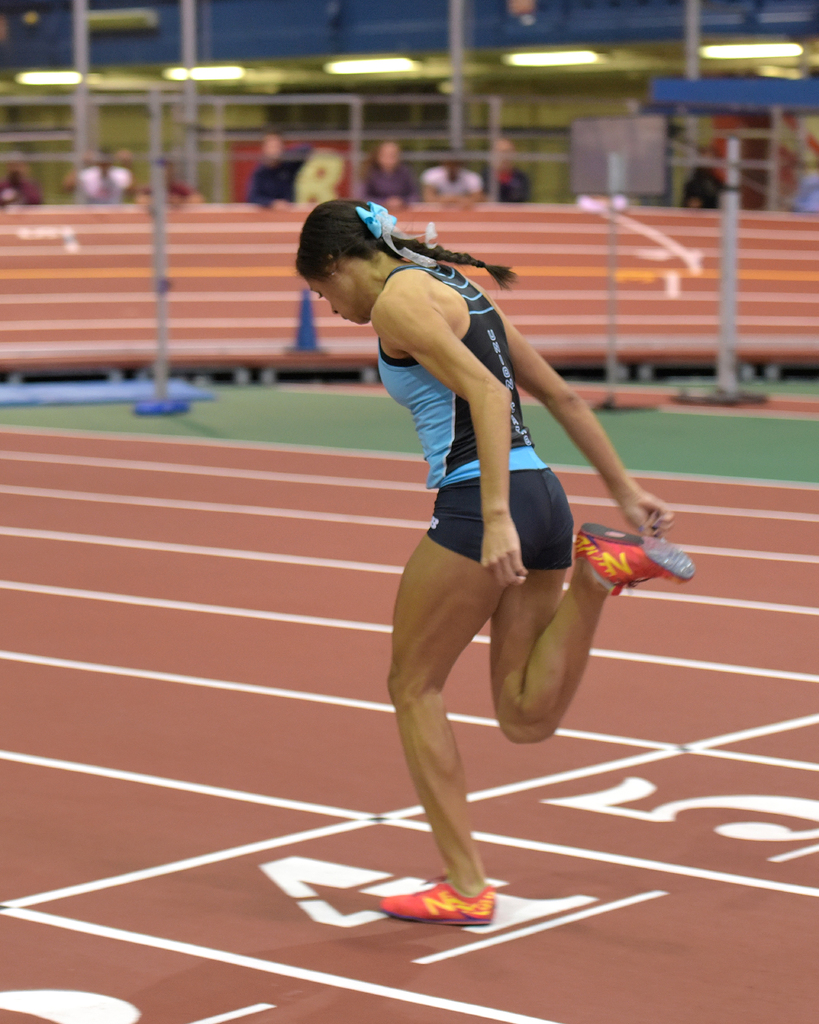Person: (292, 197, 696, 925), (247, 132, 325, 208), (53, 148, 139, 206), (357, 139, 422, 206), (416, 146, 479, 202), (127, 156, 193, 206), (478, 137, 525, 205)
